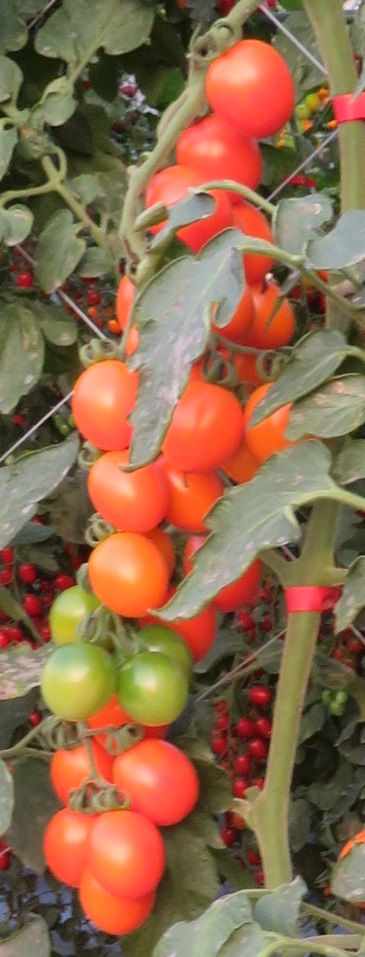green: (37, 638, 116, 721), (117, 650, 186, 731)
orange: (205, 40, 299, 136), (105, 736, 203, 828), (160, 377, 247, 465), (87, 530, 173, 619), (84, 810, 170, 899), (177, 122, 268, 194), (84, 453, 165, 530), (72, 355, 135, 450), (160, 461, 234, 529), (249, 383, 313, 457), (41, 809, 97, 886)
